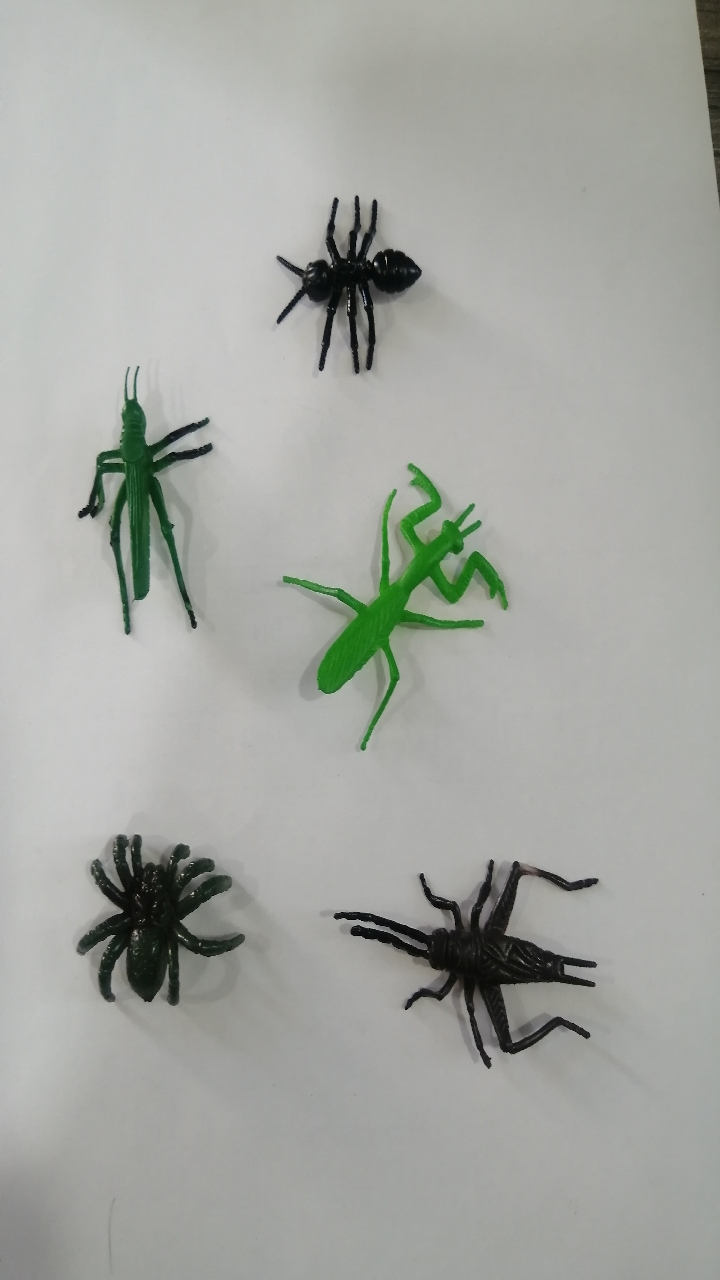intruso: (300, 808, 626, 1105), (268, 435, 535, 775), (40, 777, 264, 1057), (52, 346, 226, 665), (237, 166, 443, 382)
